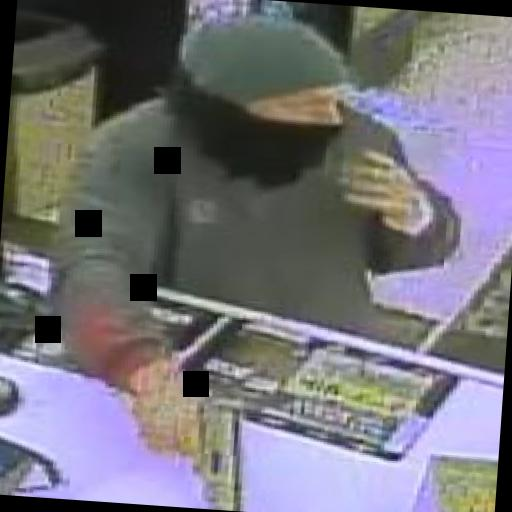Handgun: (126, 394, 251, 510)
